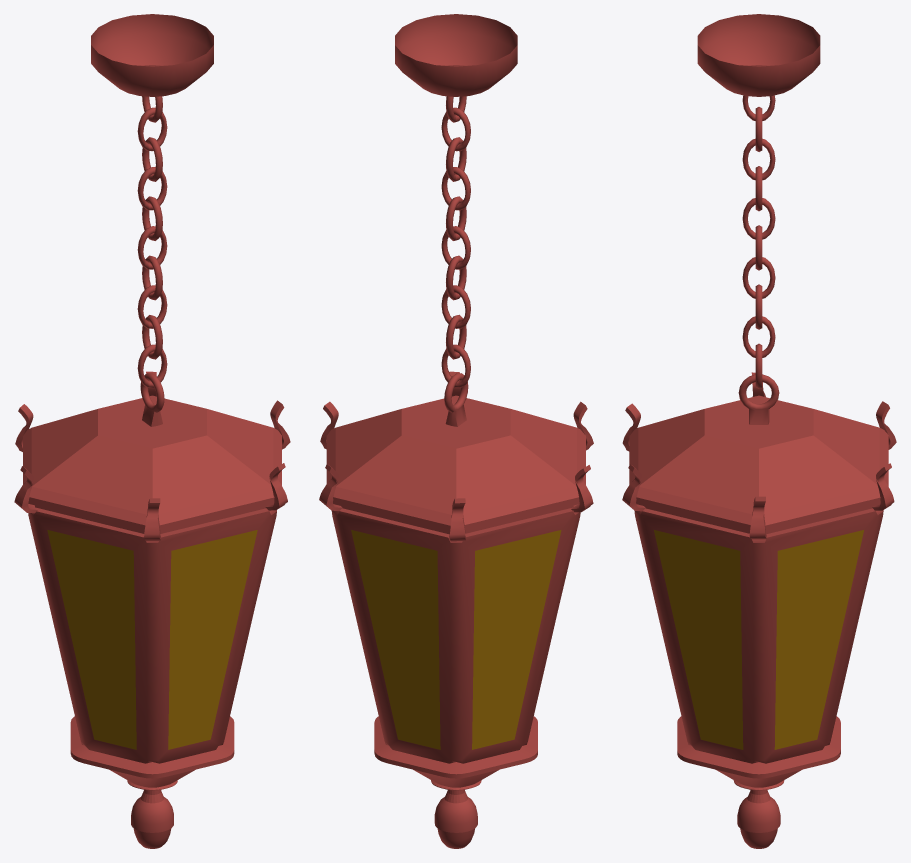
Rendered from Hallway Ceiling Light.FBX.
3 renders of one model, left to right at view 1: azimuth 30°, elevation 25°; view 2: azimuth 150°, elevation 25°; view 3: azimuth 270°, elevation 25°, orthographic.
Parts seen in each view (by area): view 1: Cylinder001, Object001; view 2: Cylinder001, Object001; view 3: Cylinder001, Object001.
Boxes of the visible parts, bbox=[...] form: Cylinder001: bbox=[14, 96, 290, 848]; Object001: bbox=[91, 14, 213, 96]; Cylinder001: bbox=[319, 96, 593, 848]; Object001: bbox=[395, 14, 517, 96]; Cylinder001: bbox=[622, 95, 896, 848]; Object001: bbox=[697, 14, 820, 96].
Size of the model in its own units: 12.89 by 37.15 by 11.45.
